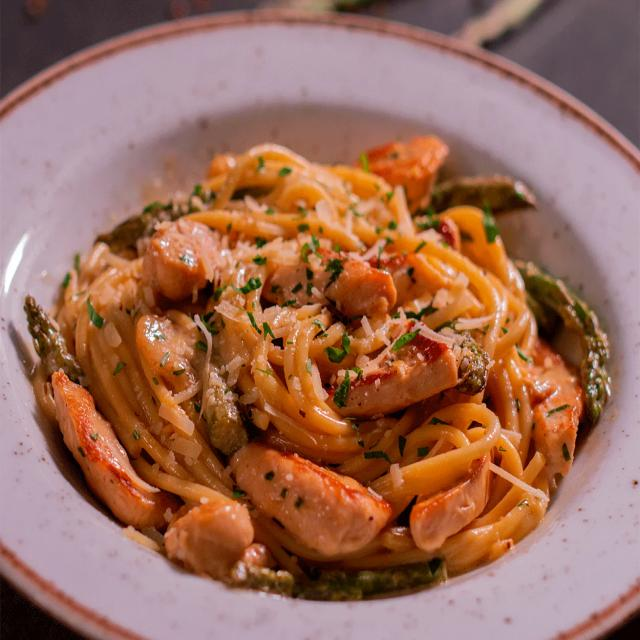pasta: (11, 121, 625, 604)
